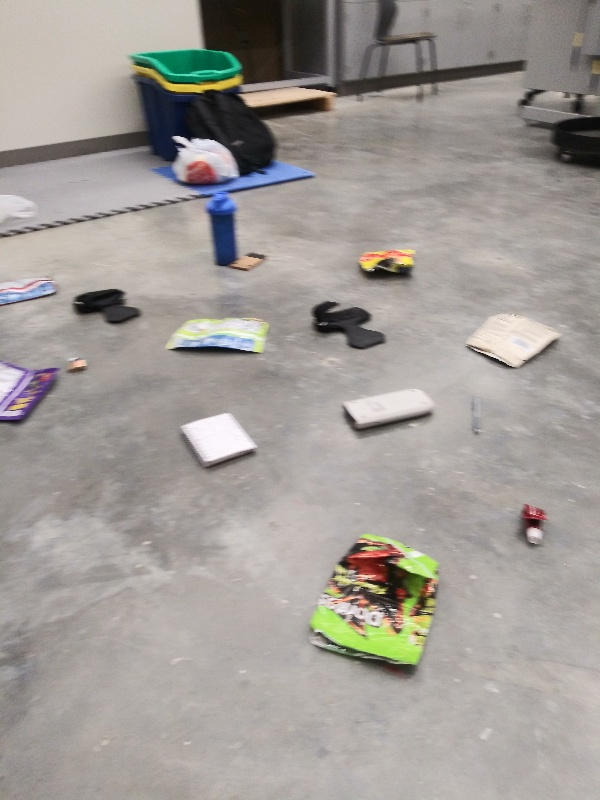bag: (306, 529, 445, 675), (461, 309, 565, 372), (162, 315, 271, 359), (1, 355, 64, 430), (352, 244, 418, 283), (1, 268, 60, 310)
